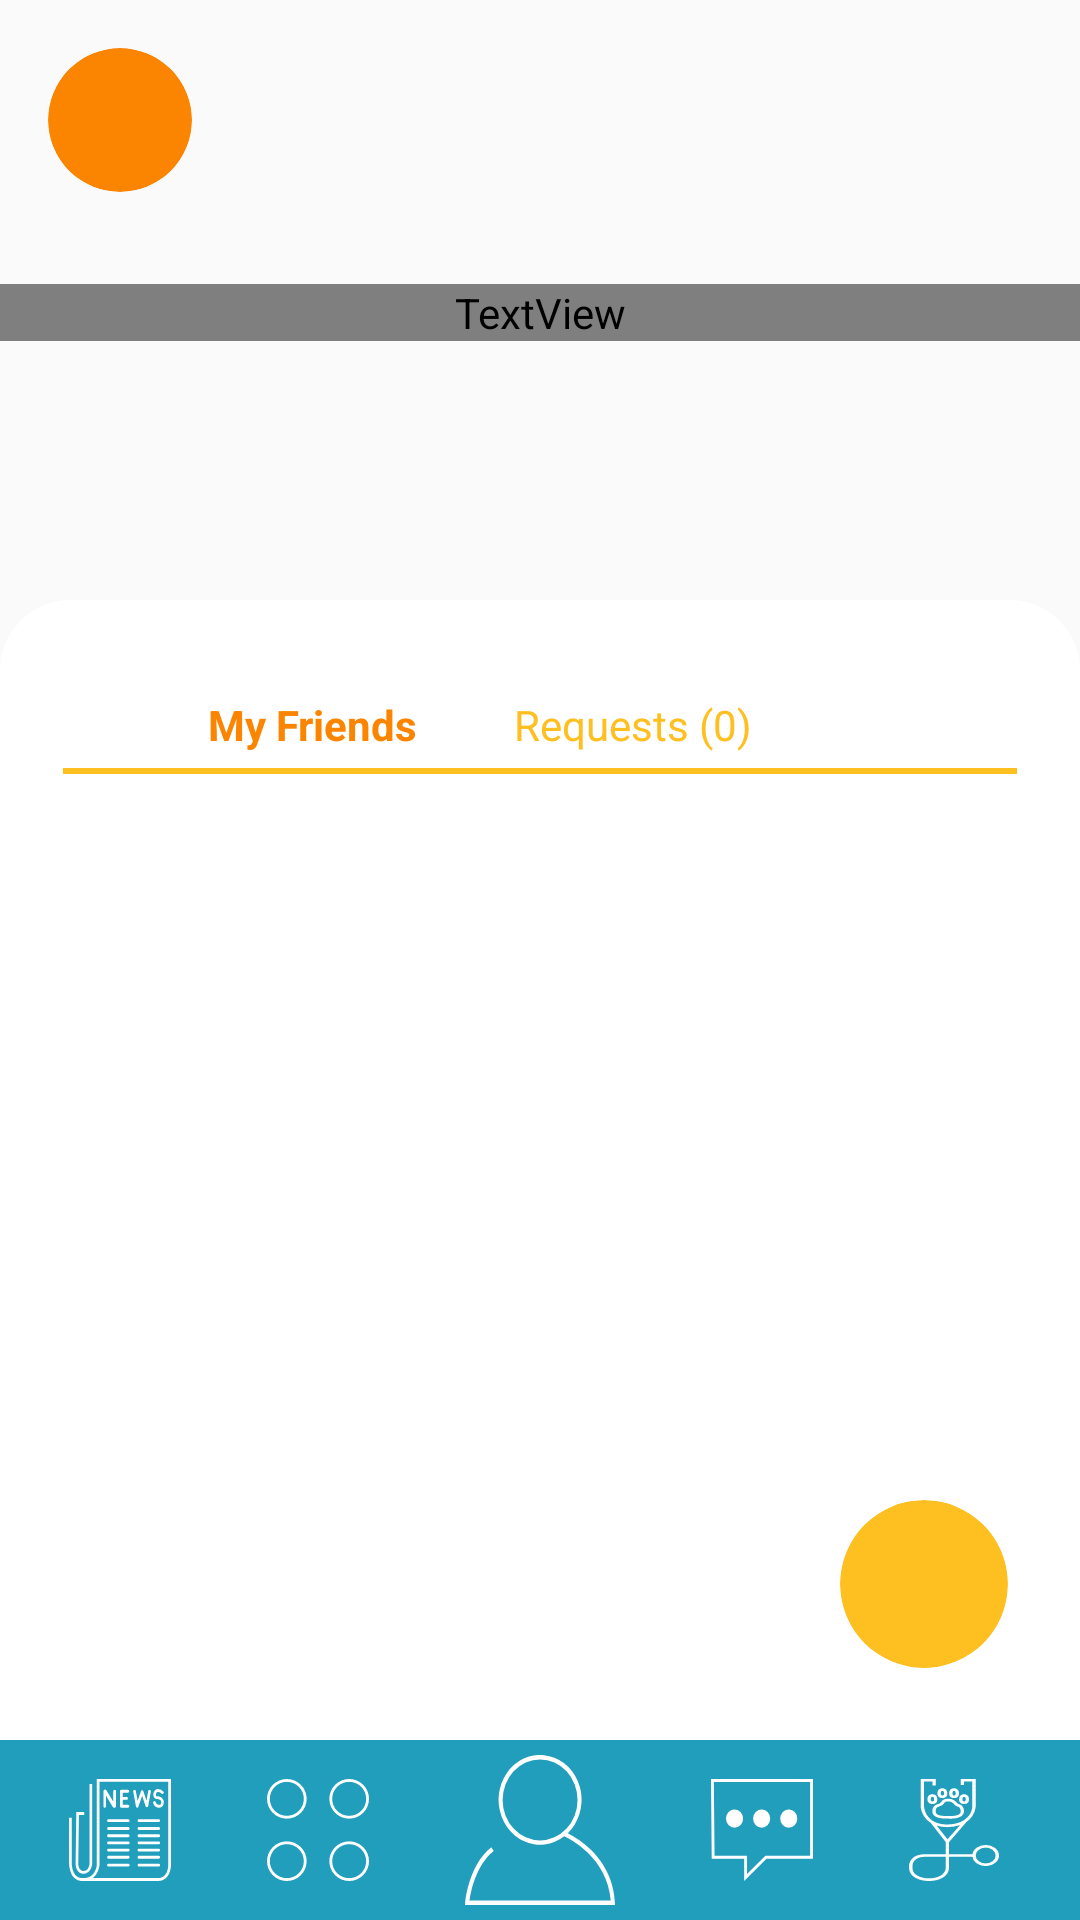

Icons on this 1080×1920 Android screen, each with the point to tap as (x=x, y=y):
Message: (x=762, y=1830)
Vets: (x=954, y=1830)
